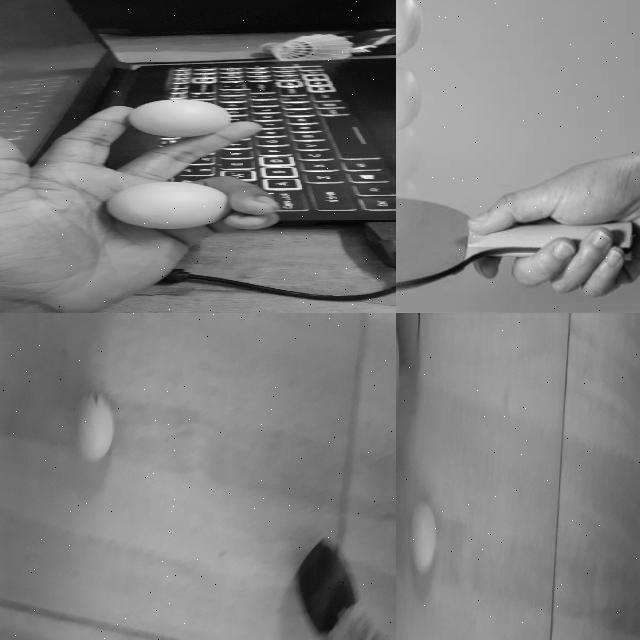ping-pong-ball: (108, 182, 228, 230), (131, 98, 229, 138), (74, 393, 114, 461), (410, 500, 436, 574), (396, 67, 422, 131), (396, 174, 421, 239), (396, 0, 423, 57)
